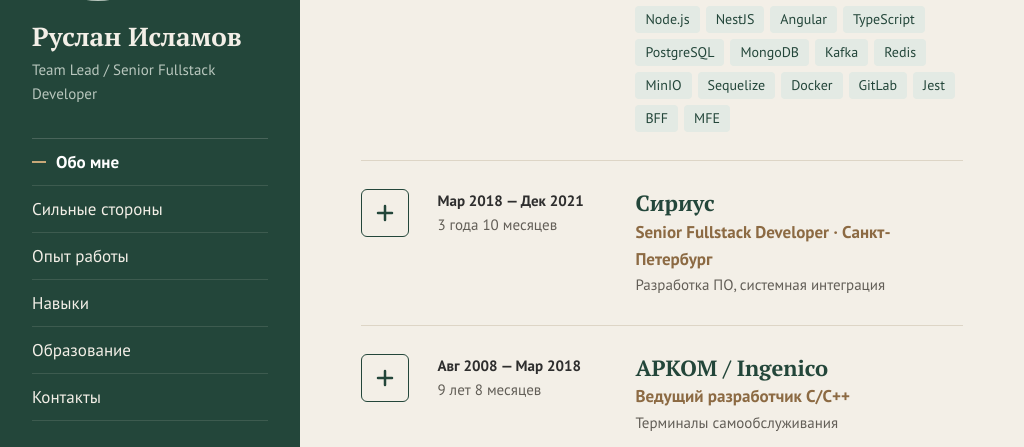
Test: App › раскрывает только два последних места работы и сворачивает их по кнопке
(page scrolled)
Click the button named "Развернуть: Сириус" at (385, 213), box [361, 189, 409, 237]
(page scrolled)
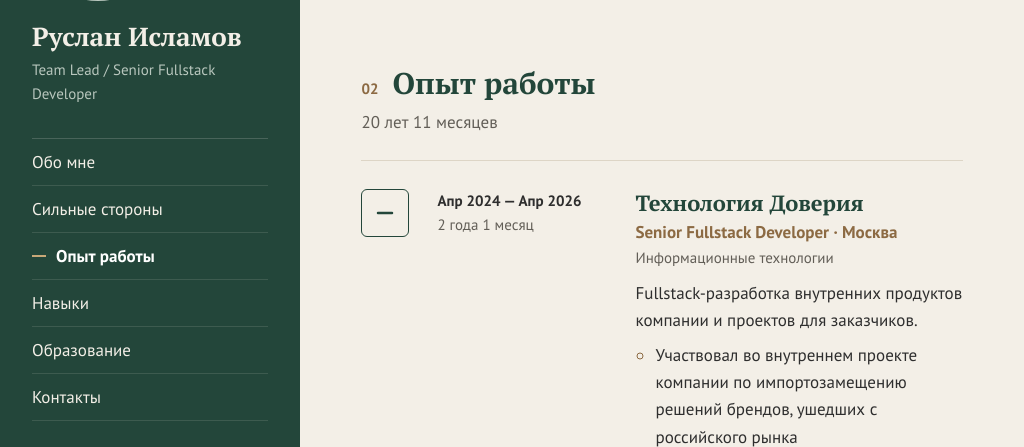
Click the button named "Свернуть: Технология Доверия" at (385, 213), box [361, 189, 409, 237]
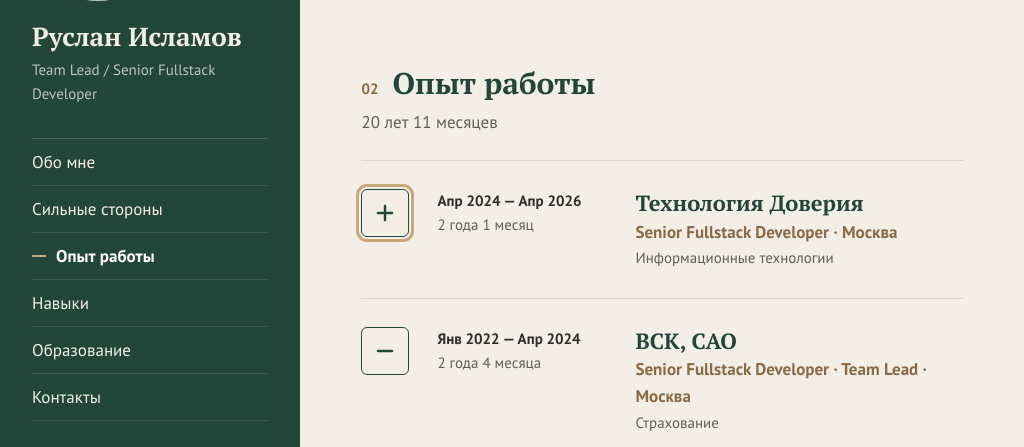
Result: the button named "Развернуть: Технология Доверия" is collapsed at [361, 189, 409, 237]
